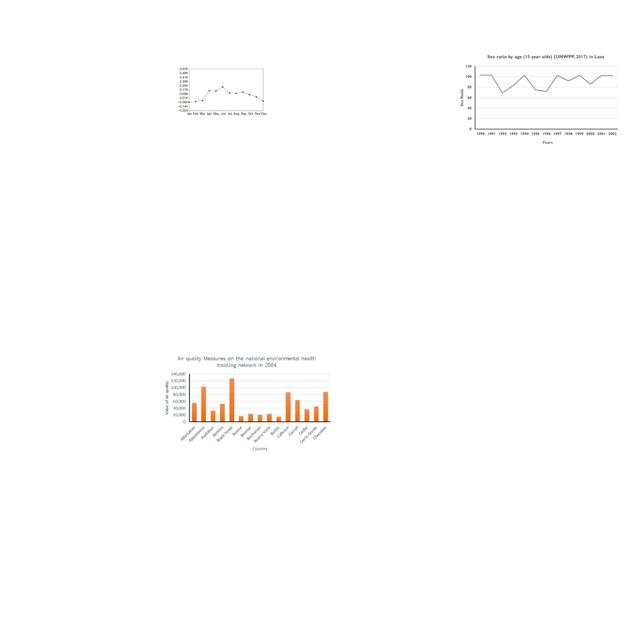Graph: (159, 352, 335, 454), (457, 51, 621, 147), (177, 62, 273, 117)
